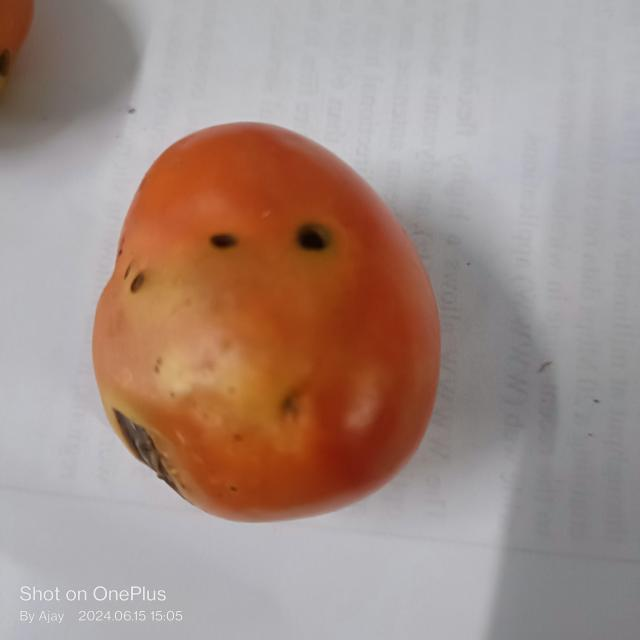fruitworm_bore: (289, 218, 336, 258), (205, 225, 242, 258), (126, 254, 153, 298)
